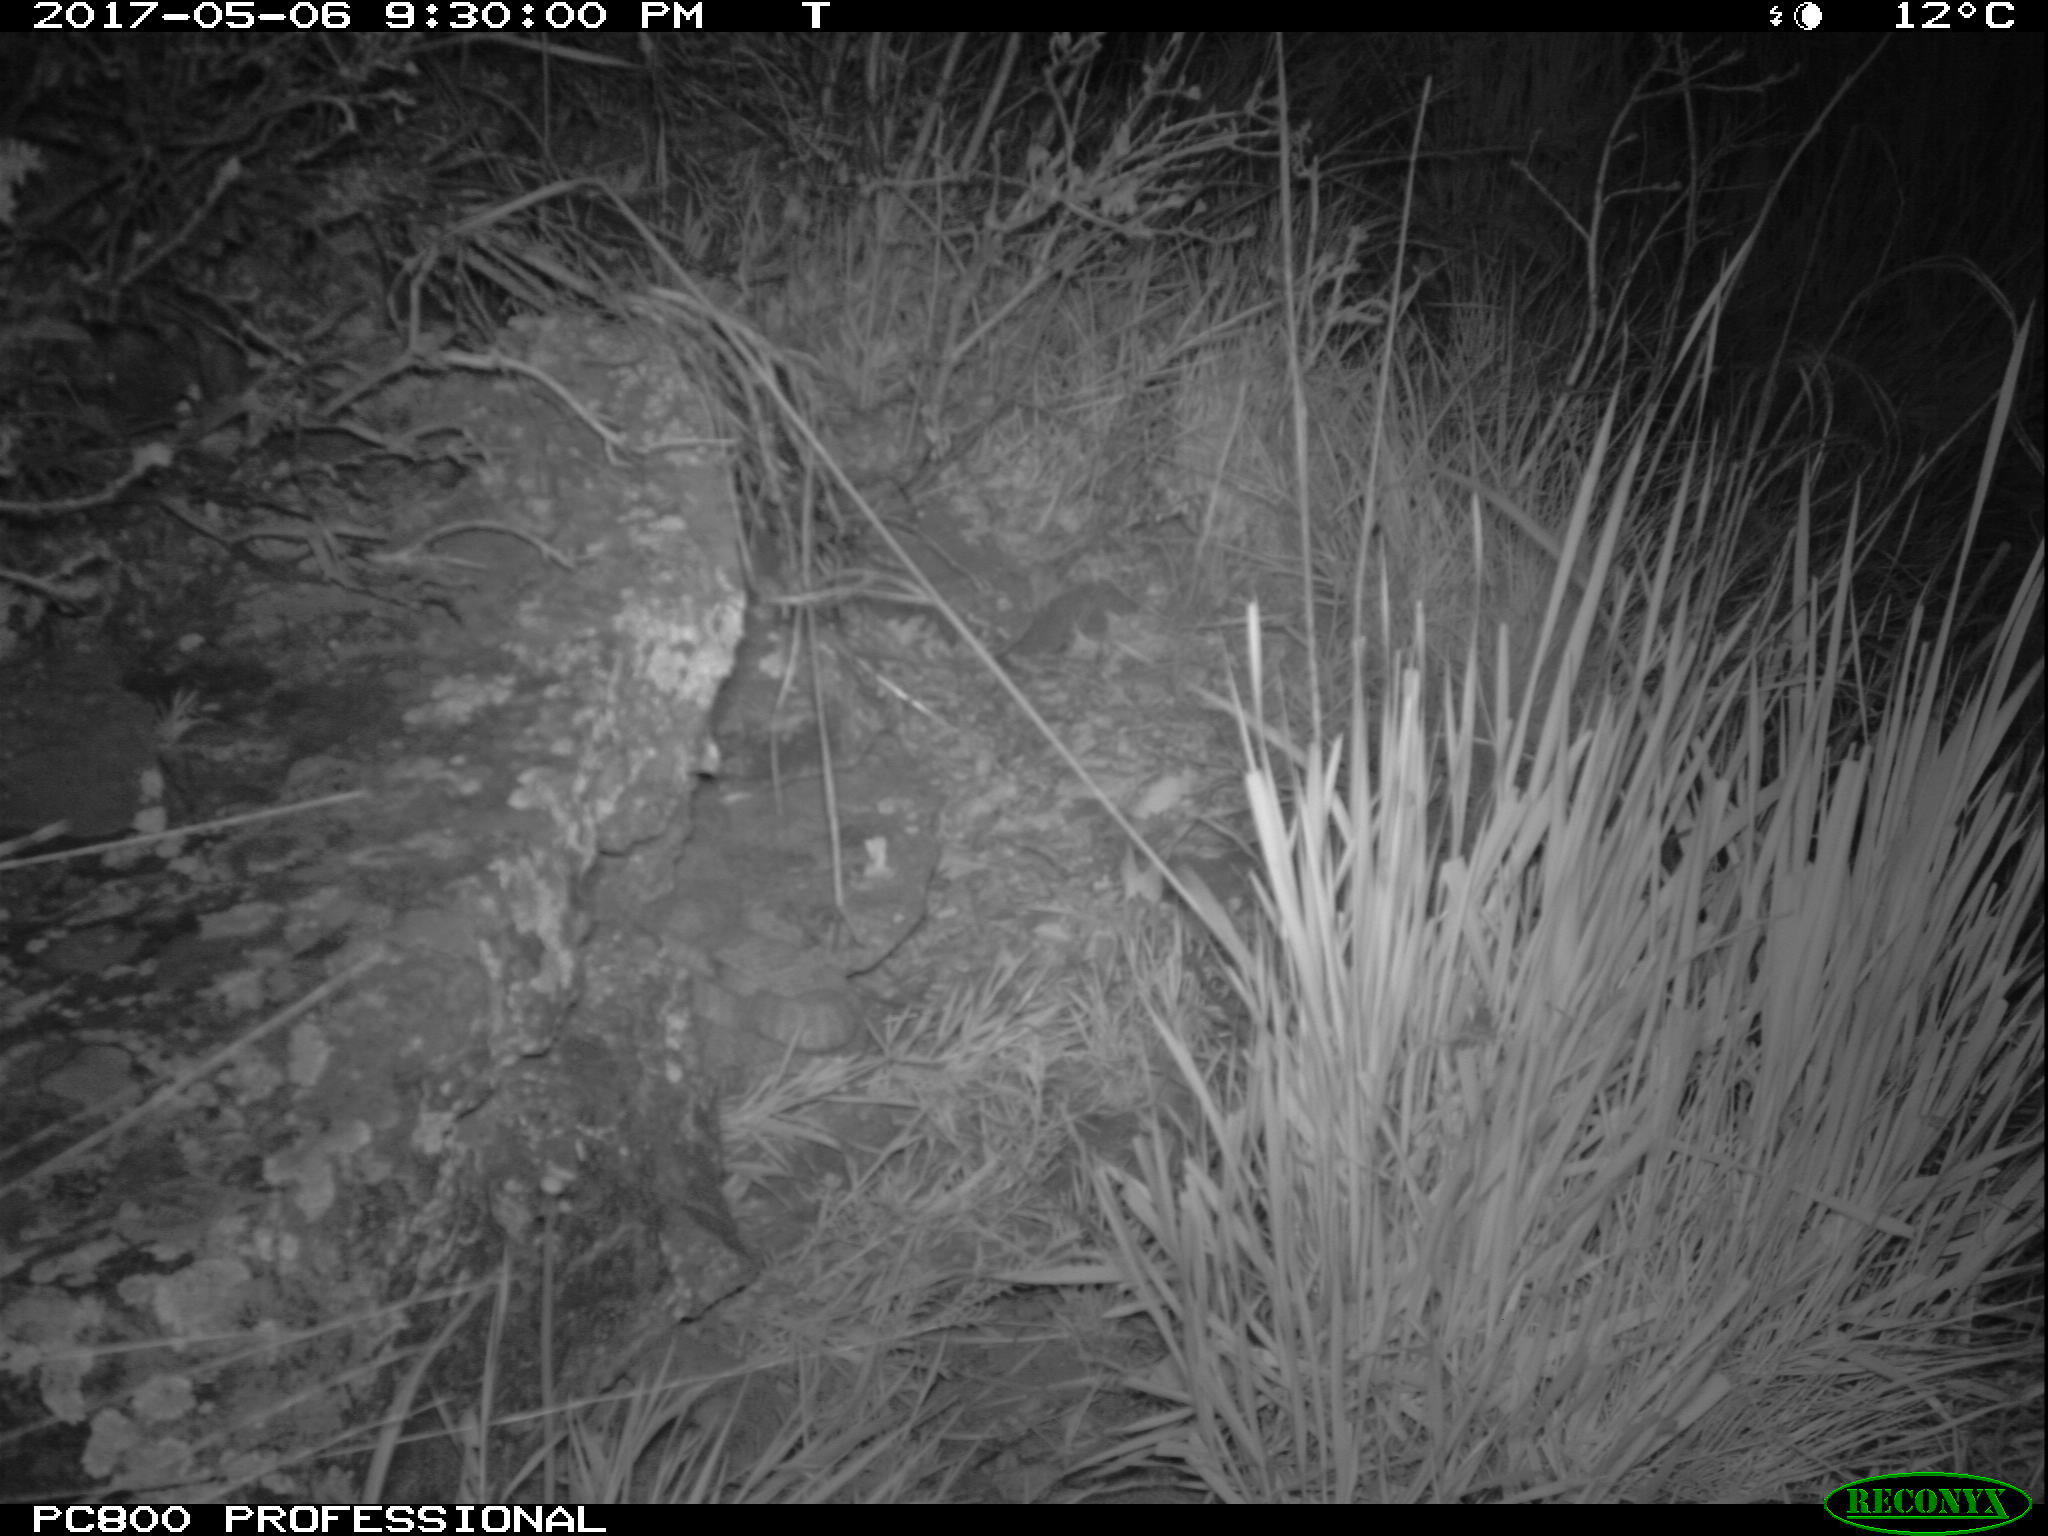snake: (672, 908, 898, 1081)
